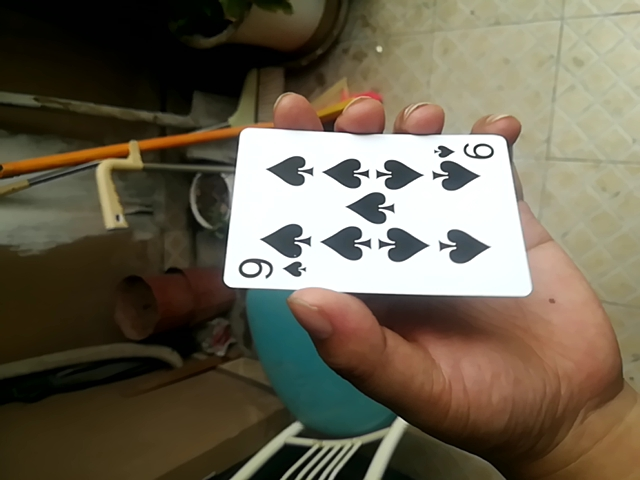ht 9: (218, 124, 525, 298)
